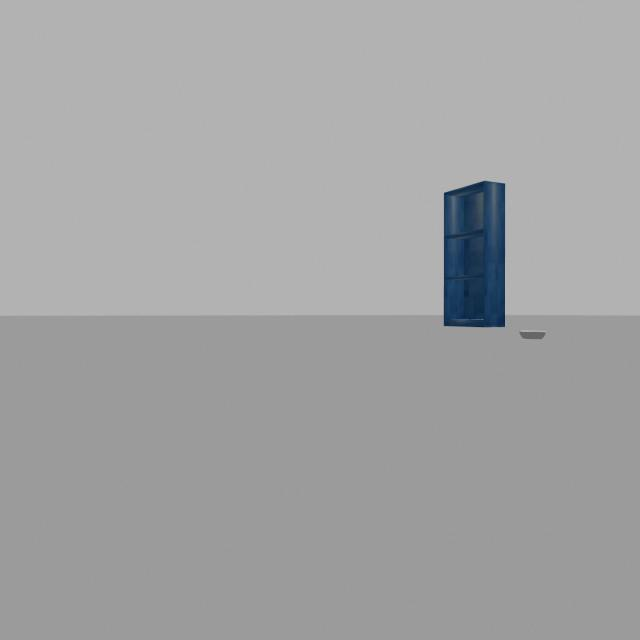bowl: (518, 323, 548, 345)
shelf: (430, 171, 512, 340)
